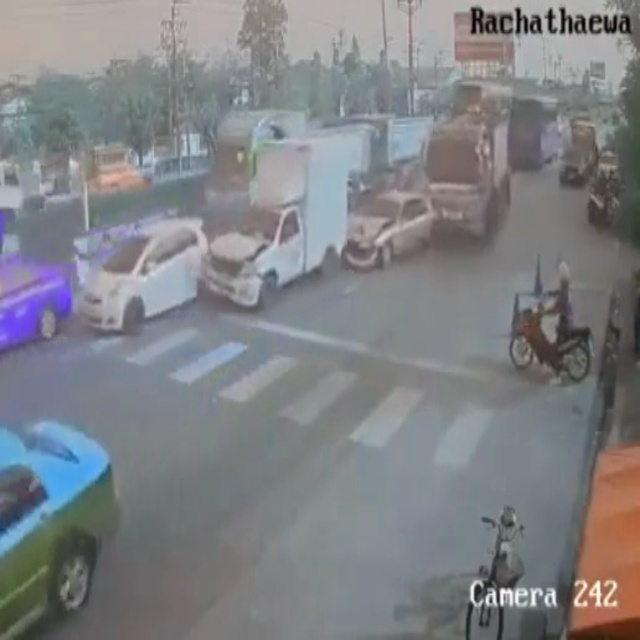acc: (193, 140, 429, 309)
